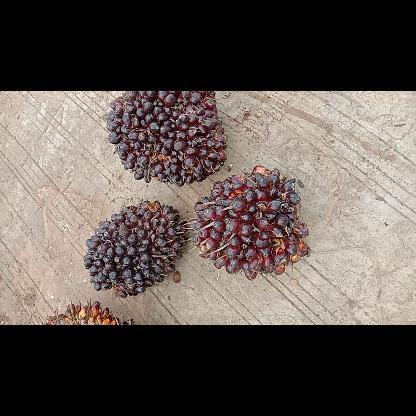TBS mentah: (188, 162, 314, 282), (103, 90, 233, 188), (80, 197, 190, 299)
